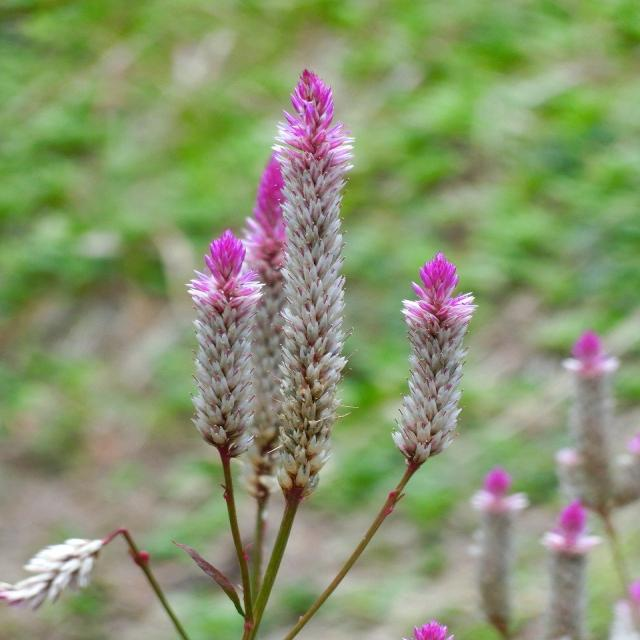Celosia-Argentea: (157, 52, 488, 510), (467, 323, 609, 639)
